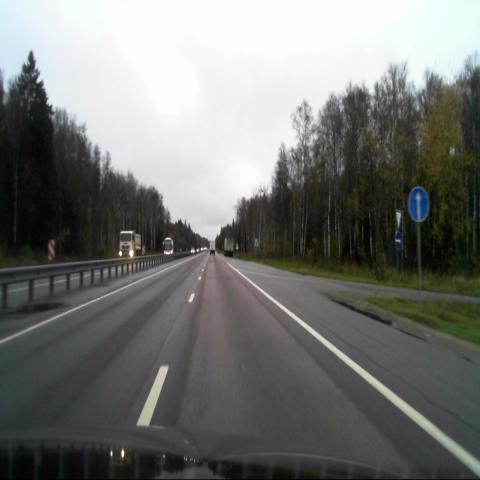4_1_1: (408, 187, 429, 221)
